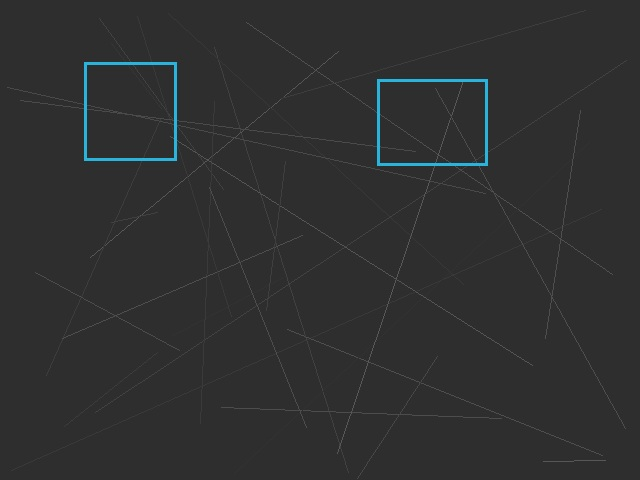D10: (377, 79, 487, 165), (84, 62, 176, 160)
